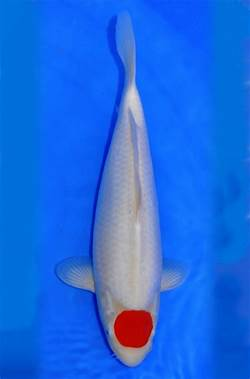sun: (55, 8, 188, 367)
